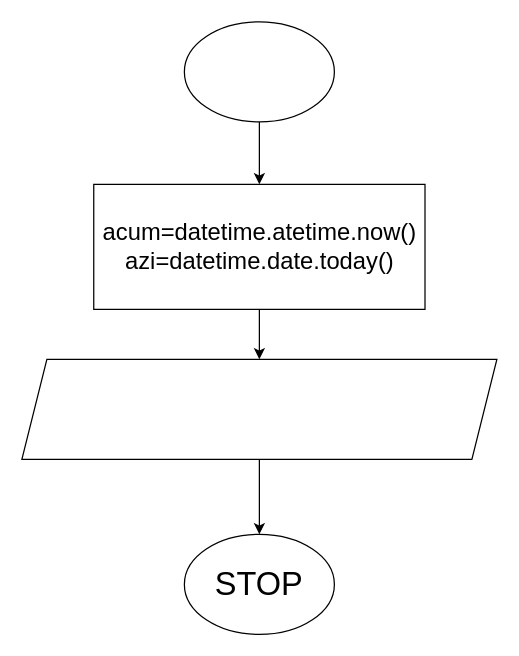
This 519x656 diagram has some shape labels left out. Each missing label, with the box of its shape:
print("Timpul de acum",acum) print("Data de azi",azi): (21, 358, 497, 459)
START: (183, 21, 334, 122)
